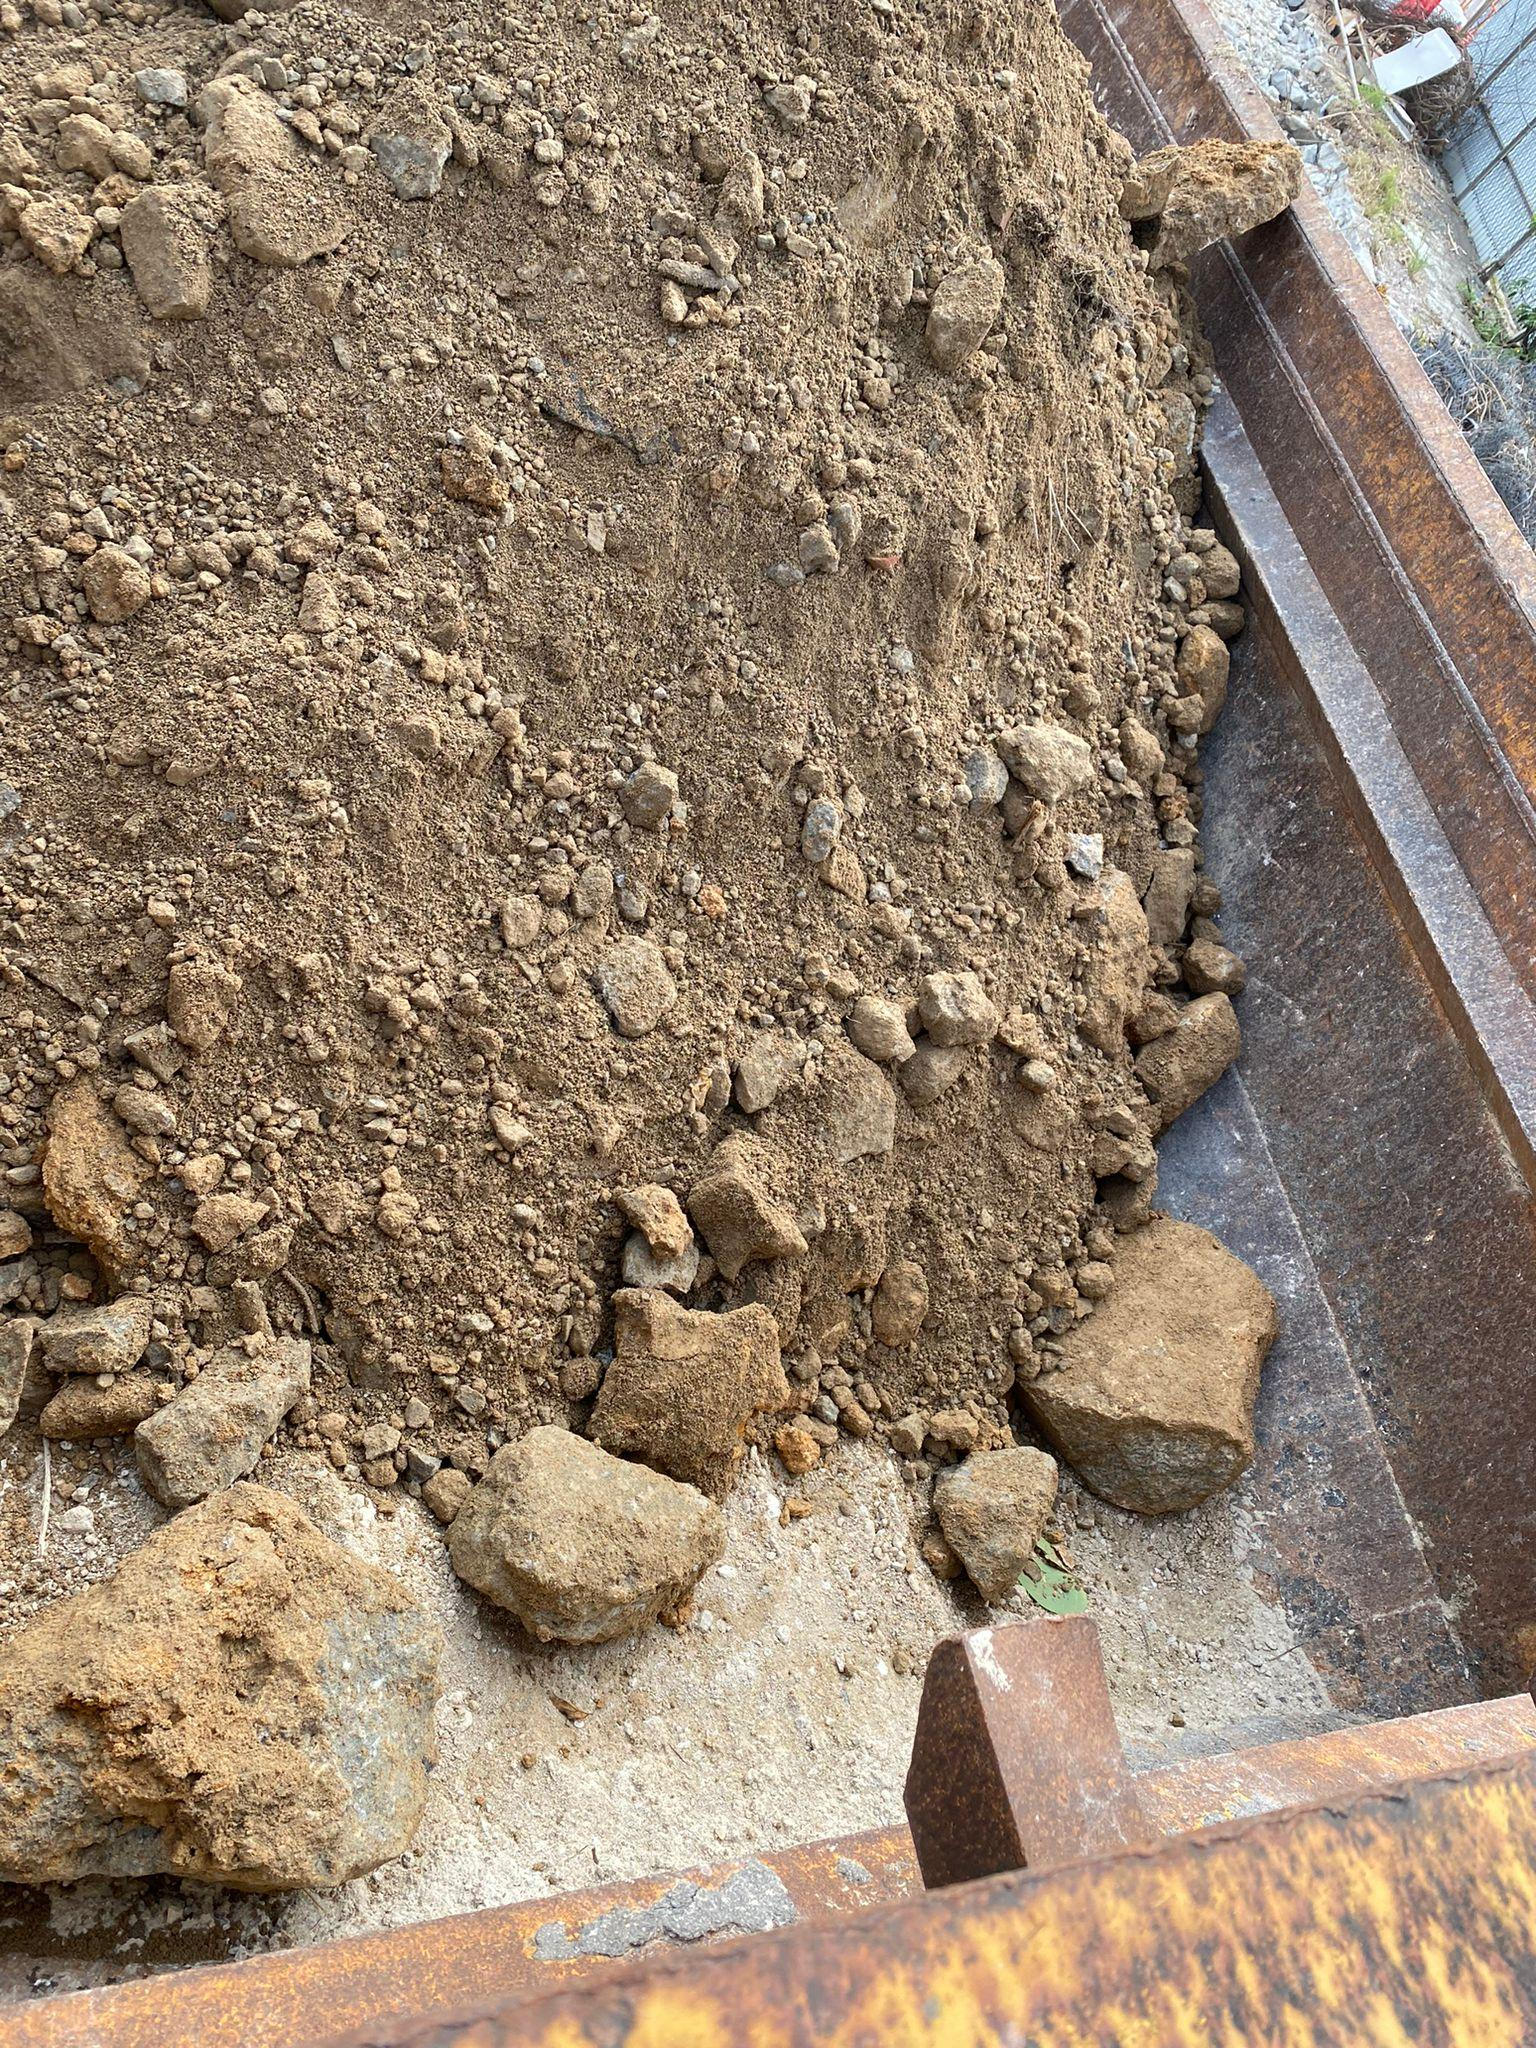dry: (6, 0, 1217, 1484)
